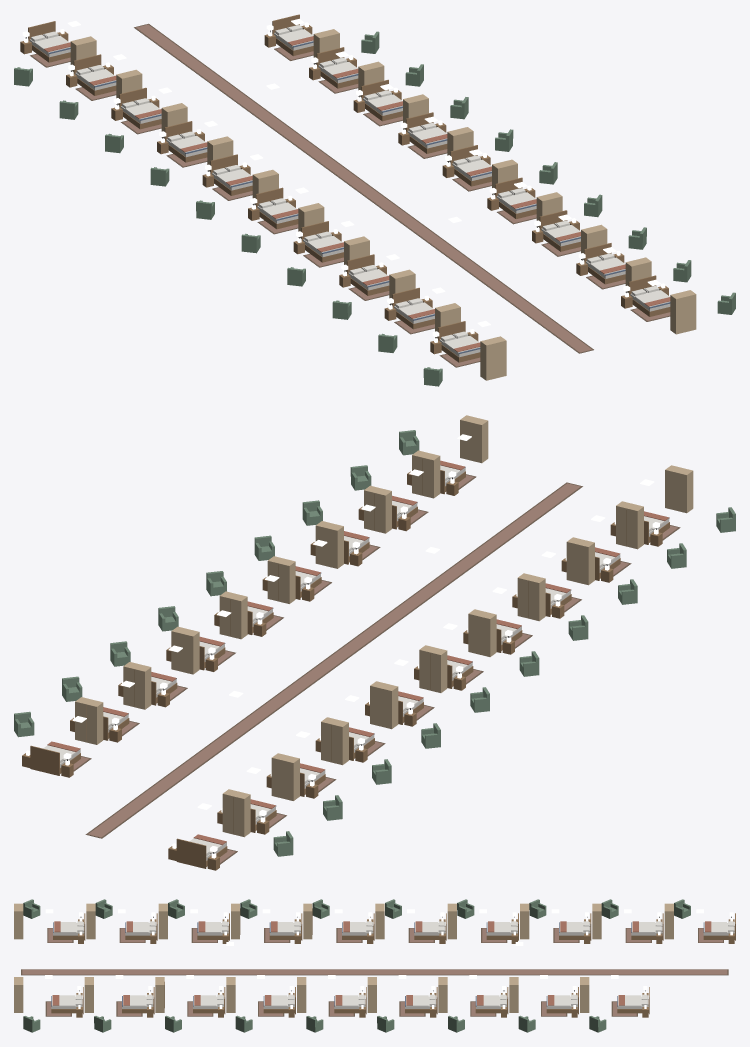
Rendered from fine-s7.glb.
3 renders of one model, top to bottom at view 1: azimuth 30°, elevation 25°; view 2: azimuth 150°, elevation 25°; view 3: azimuth 270°, elevation 25°, orthographic. The views are drawn at different scales.
Visible parts, largest first — view 1: soft-s7, dresser.132, dresser.122, bed-frame.124, bed-frame.126, bed-frame.128, bed-frame.130, bed-frame.132, bed-frame.123, bed-frame.125, bed-frame.127, bed-frame.129 (+10 smaller); view 2: soft-s7, dresser.126, dresser.128, dresser.130, dresser.127, dresser.129, dresser.132, dresser.123, dresser.124, dresser.125, dresser.131, dresser.122 (+10 smaller); view 3: soft-s7, dresser.124, dresser.127, dresser.131, dresser.123, dresser.125, dresser.126, dresser.128, dresser.130, dresser.132, dresser.114, dresser.115 (+44 smaller).
Part boxes in pixels (left/top/right/bottom): soft-s7: left=22, top=23, right=670, bottom=367; dresser.132: left=480, top=336, right=506, bottom=380; dresser.122: left=670, top=290, right=696, bottom=334; bed-frame.124: left=73, top=54, right=116, bottom=95; bed-frame.126: left=164, top=121, right=207, bottom=162; bed-frame.128: left=256, top=187, right=298, bottom=229; bed-frame.130: left=347, top=254, right=389, bottom=295; bed-frame.132: left=438, top=321, right=480, bottom=362; bed-frame.123: left=28, top=21, right=70, bottom=62; bed-frame.125: left=119, top=87, right=161, bottom=129; bed-frame.127: left=210, top=154, right=252, bottom=195; bed-frame.129: left=301, top=221, right=343, bottom=262; soft-s7: left=43, top=460, right=680, bottom=864; dresser.126: left=370, top=681, right=398, bottom=729; dresser.128: left=468, top=609, right=496, bottom=656; dresser.130: left=566, top=537, right=594, bottom=585; dresser.127: left=419, top=645, right=447, bottom=692; dresser.129: left=517, top=573, right=545, bottom=621; dresser.132: left=665, top=465, right=693, bottom=513; dresser.123: left=222, top=789, right=250, bottom=837; dresser.124: left=271, top=753, right=299, bottom=800; dresser.125: left=321, top=717, right=348, bottom=765; dresser.131: left=616, top=501, right=643, bottom=549; dresser.122: left=460, top=415, right=488, bottom=463; soft-s7: left=21, top=912, right=733, bottom=1016; dresser.124: left=592, top=903, right=601, bottom=939; dresser.127: left=375, top=903, right=384, bottom=939; dresser.131: left=86, top=903, right=95, bottom=939; dresser.123: left=664, top=903, right=673, bottom=939; dresser.125: left=520, top=903, right=529, bottom=939; dresser.126: left=447, top=903, right=456, bottom=939; dresser.128: left=303, top=903, right=312, bottom=939; dresser.130: left=158, top=903, right=167, bottom=939; dresser.132: left=14, top=903, right=23, bottom=939; dresser.114: left=580, top=977, right=589, bottom=1012; dresser.115: left=509, top=977, right=518, bottom=1012.
Size of the model in its own units: 18.49 by 2.04 by 46.66.
